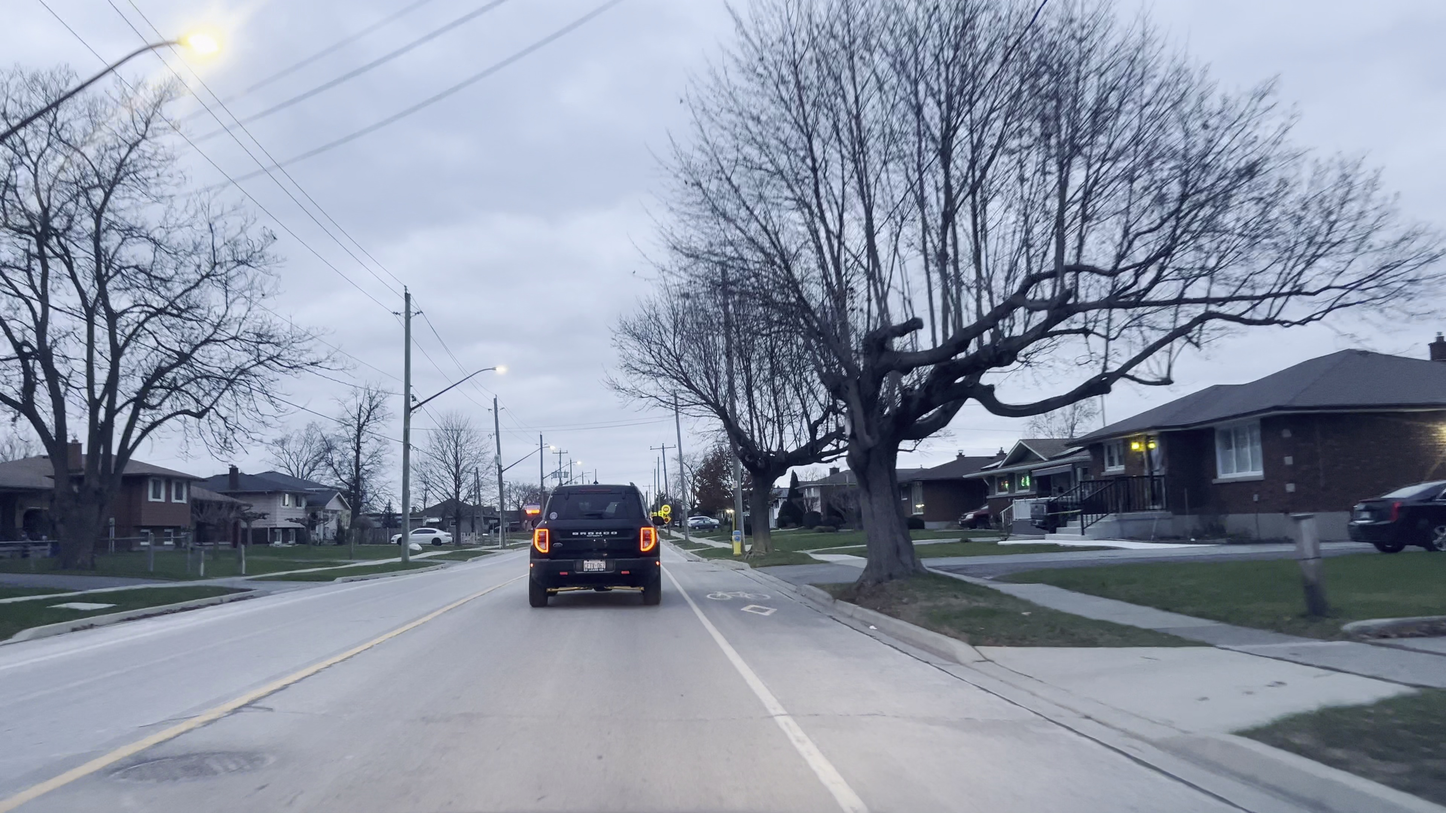cracks: (210, 668, 309, 729)
